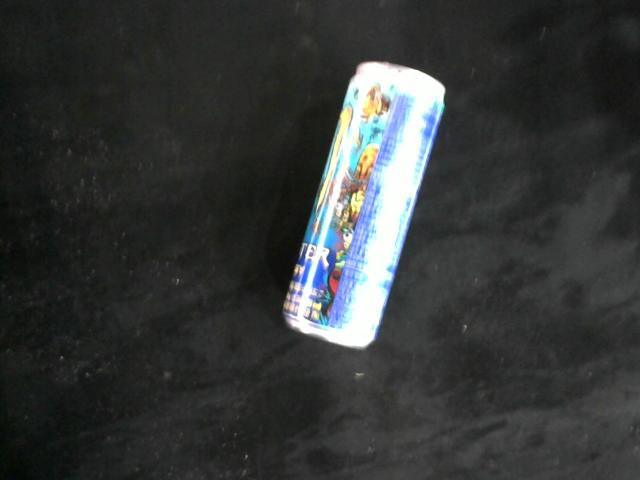can: (280, 59, 447, 354)
